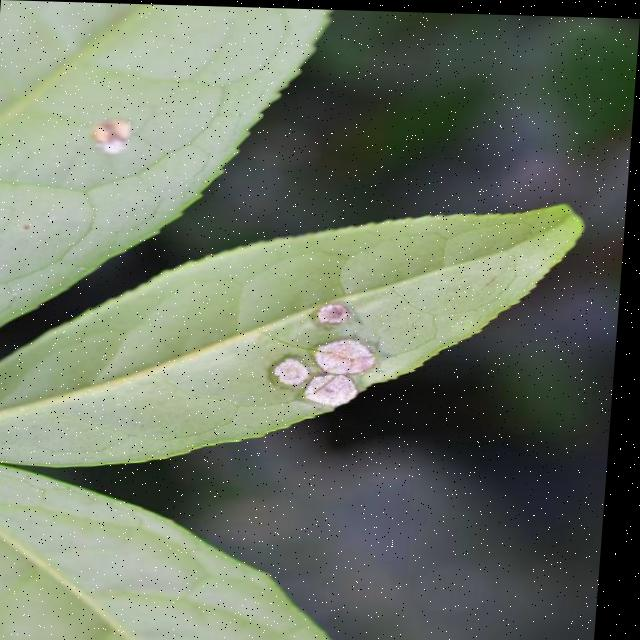Tea cake: (274, 333, 405, 416), (305, 296, 361, 332)
